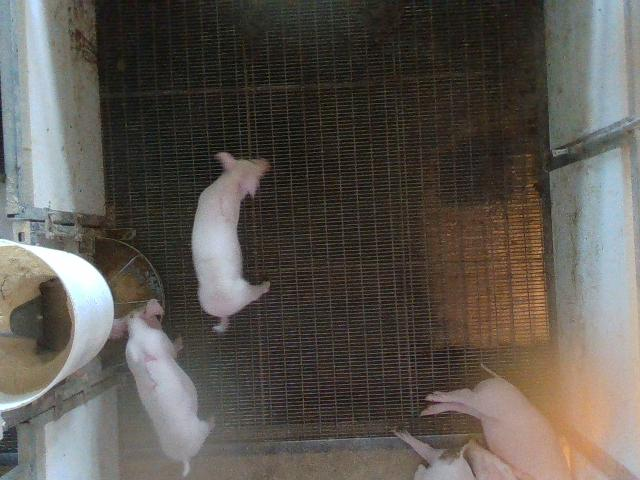pig-5: (110, 299, 211, 476)
